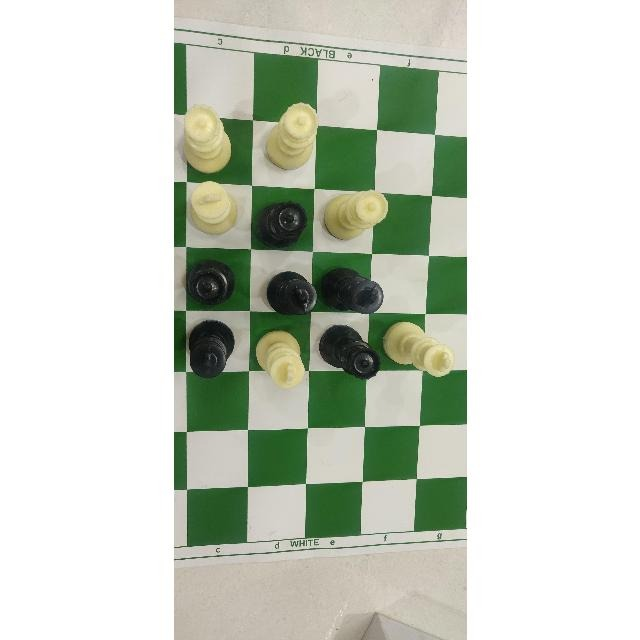black-king: (316, 264, 384, 318), (184, 319, 235, 380), (264, 271, 317, 318)
black-queen: (317, 323, 381, 380), (252, 197, 308, 248), (183, 257, 235, 306)
white-king: (378, 319, 455, 381), (253, 327, 309, 392), (188, 178, 238, 238)
white-queen: (177, 103, 235, 174), (261, 99, 316, 170), (321, 186, 389, 243)
